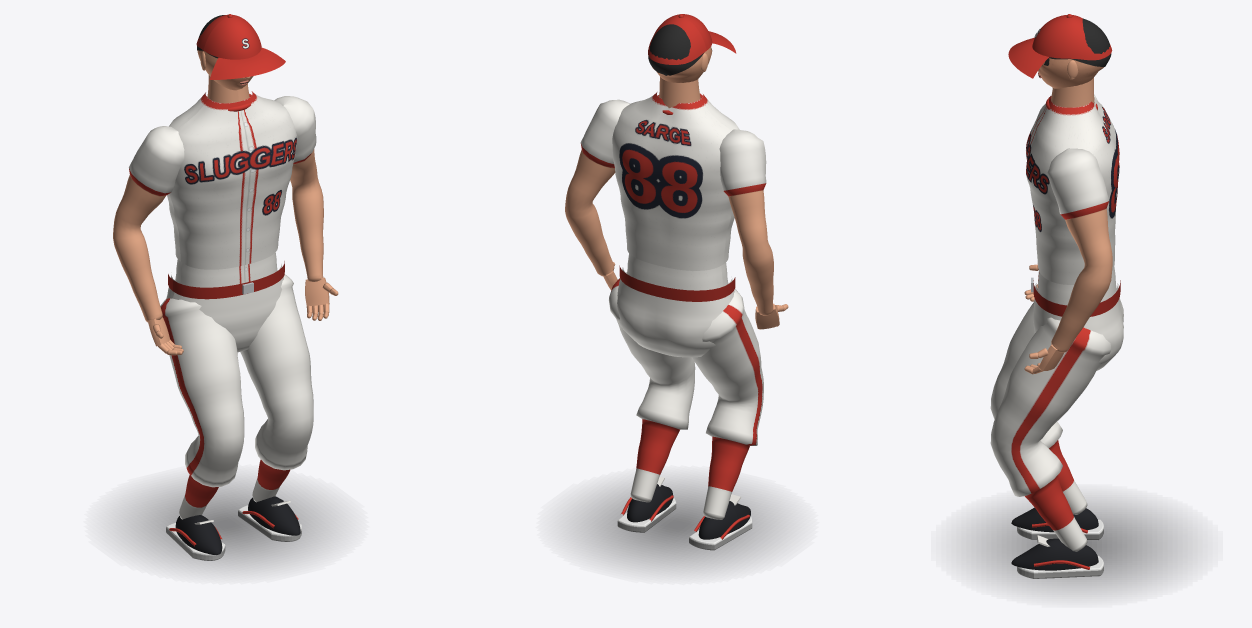
File: player_05_home.glb
The picture shows the model from 3 angles, left to right: view 1: azimuth 30°, elevation 25°; view 2: azimuth 150°, elevation 25°; view 3: azimuth 270°, elevation 25°; orthographic projection. The views are drawn at different scales.
Parts seen in each view (by area): view 1: player_05_home, object 30, object 32, object 2; view 2: player_05_home, object 29, object 30, object 2, object 34; view 3: player_05_home, object 30, object 34, object 32, object 2, object 29.
Boxes of the visible parts, <box> form: player_05_home: <box>113,91,334,570</box>; object 30: <box>196,14,261,59</box>; object 32: <box>209,47,285,79</box>; object 2: <box>207,75,249,103</box>; player_05_home: <box>565,92,785,570</box>; object 29: <box>648,24,704,75</box>; object 30: <box>648,14,712,64</box>; object 2: <box>659,77,700,108</box>; object 34: <box>652,46,712,82</box>; player_05_home: <box>966,94,1187,592</box>; object 30: <box>1032,14,1112,60</box>; object 34: <box>1038,58,1103,88</box>; object 32: <box>1008,37,1049,78</box>; object 2: <box>1051,77,1094,107</box>; object 29: <box>1049,18,1111,66</box>.
Bounding box in the file's own units: 3.5 × 6.47 × 3.5.
Materials: 26 (5 with a texture image).
